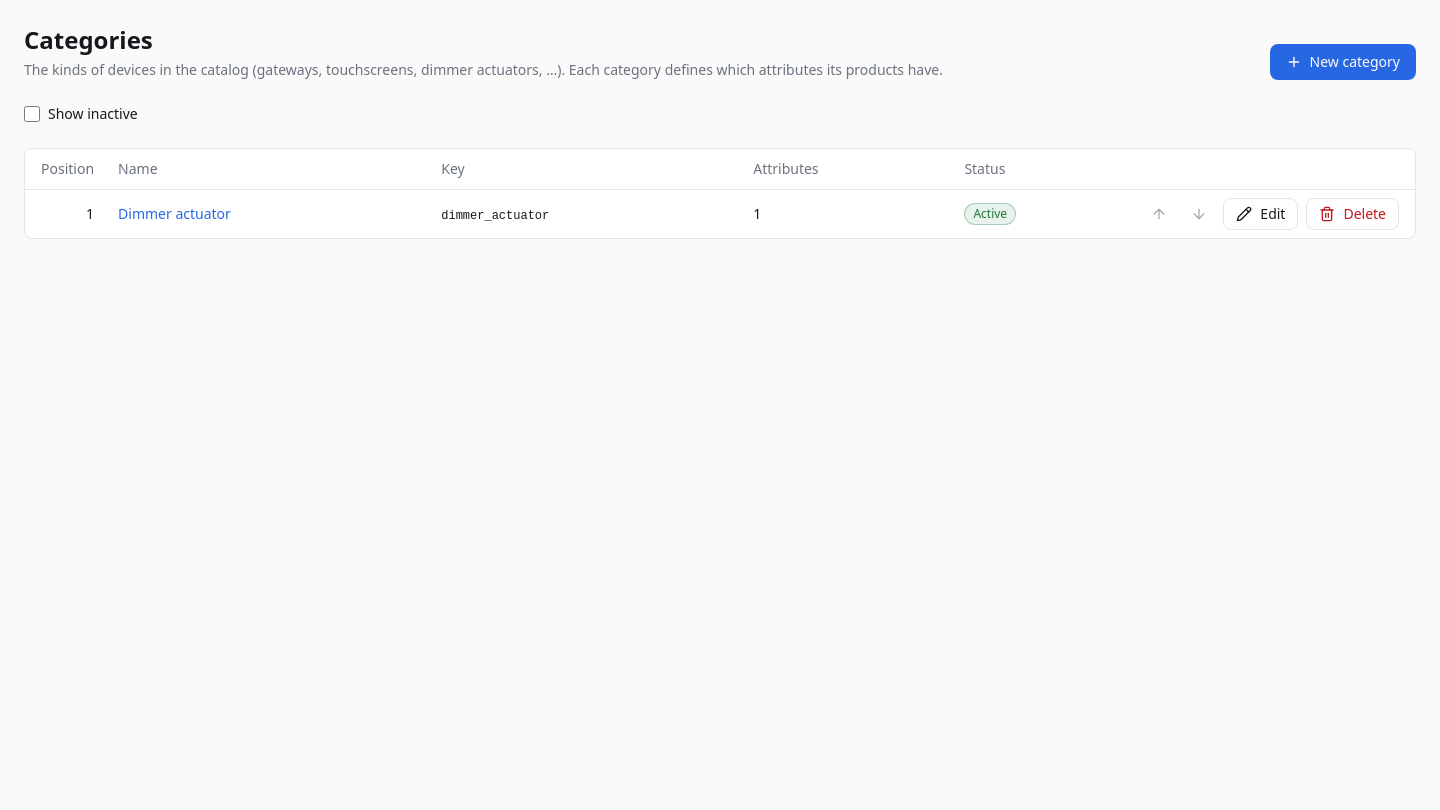
Test: CategoriesPage › shows that a category in use cannot be deleted
Step 1. Click the button "Delete" → [1353, 214], box [1306,198,1399,230]
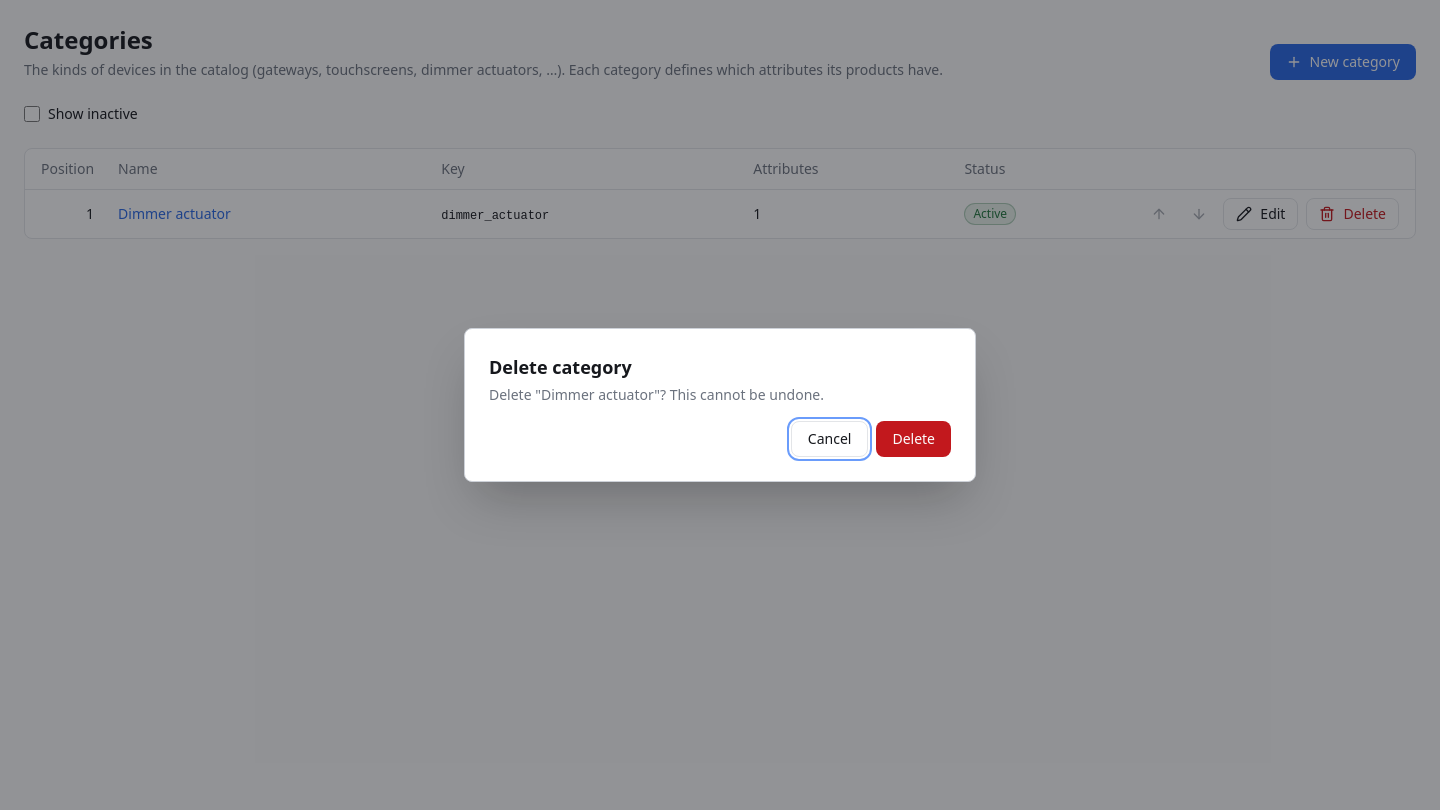
Result: the dialog shows "Delete \"Dimmer actuator\"?" at [489,385,824,404]
Step 2. Click the button "Delete" → [914, 439], box [876,421,951,457]
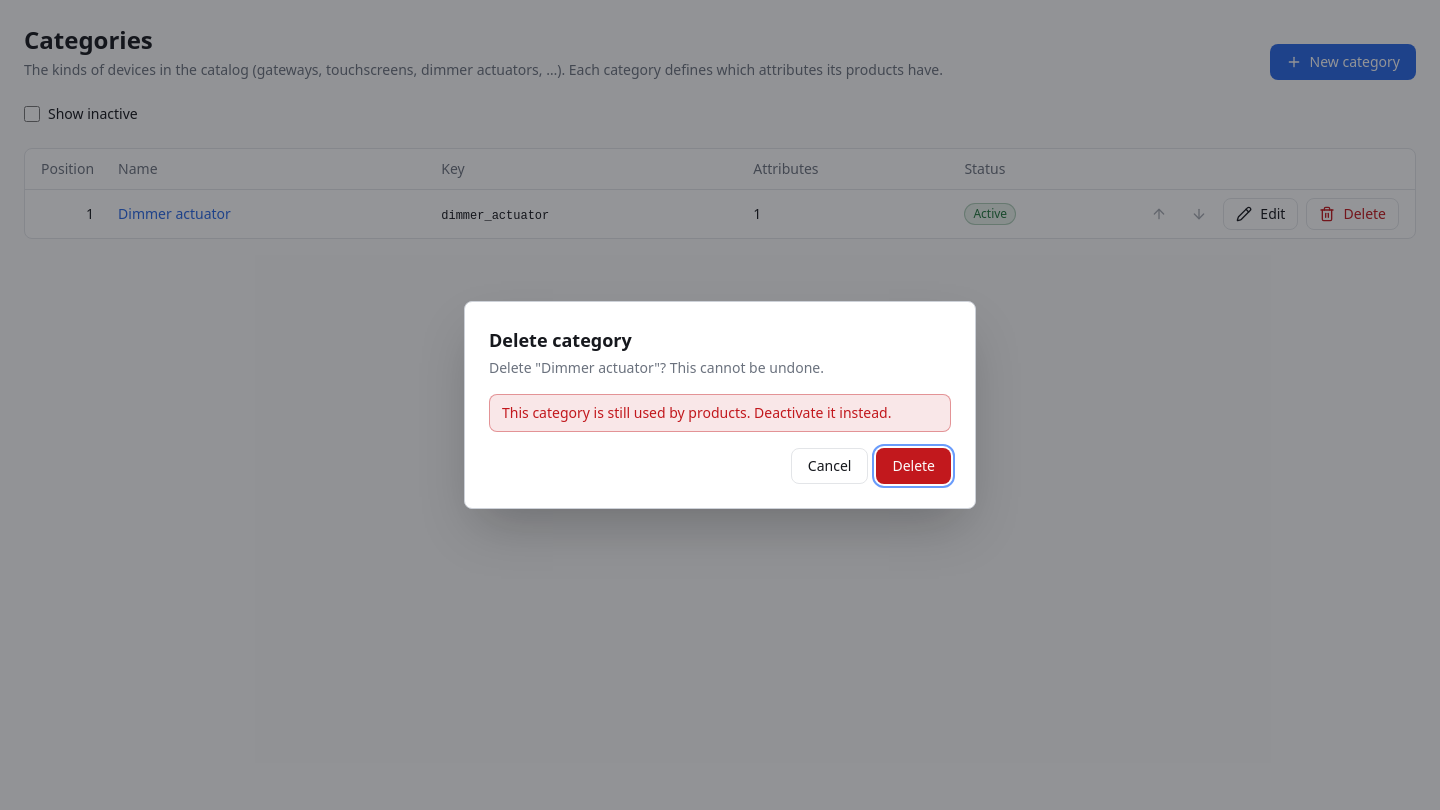
Result: the message reads "This category is still used by products. Deactivate it instead." at [502,403,891,422]
